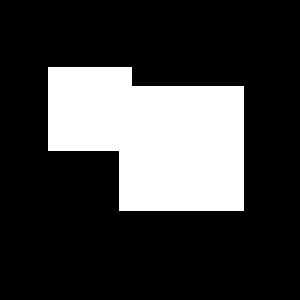circle: (119, 86, 244, 211), (48, 67, 132, 151)
